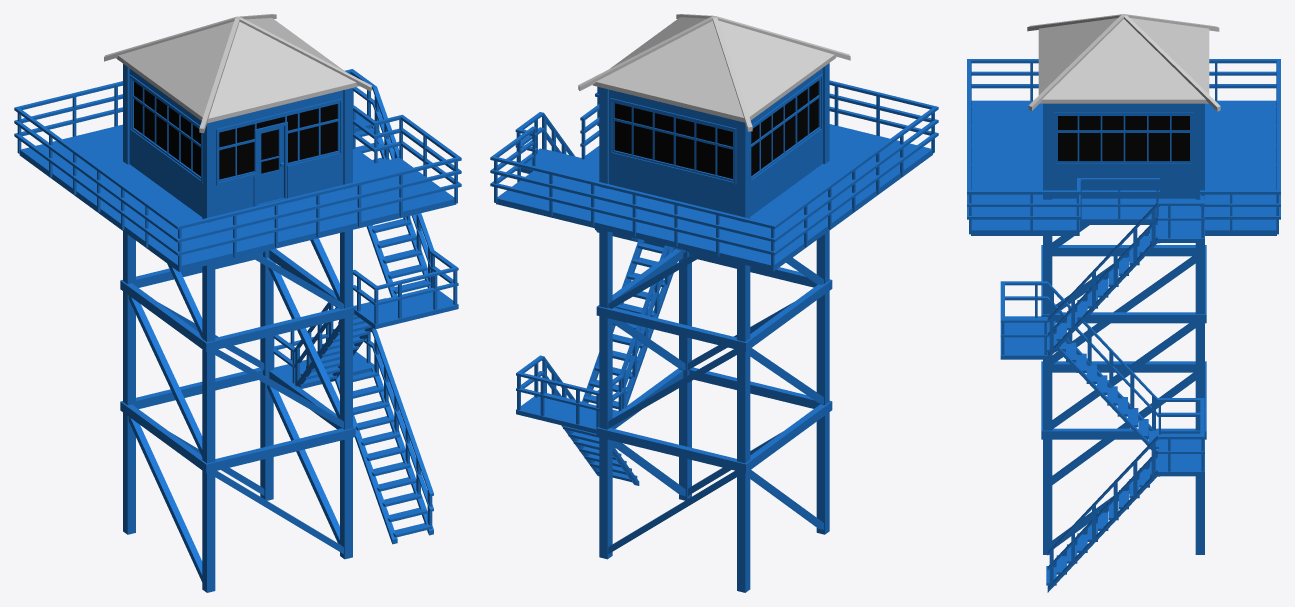
Rendered from SM_observation_post.fbx.
3 views of the same model, side by side, from view 1: azimuth 30°, elevation 25°; view 2: azimuth 150°, elevation 25°; view 3: azimuth 270°, elevation 25° (orthographic). The views are drawn at different scales.
Parts seen in each view (by area): view 1: Cube_7, Symmetry_2; view 2: Cube_7; view 3: Cube_7.
Boxes of the visible parts, bbox=[...] form: Cube_7: bbox=[14, 14, 461, 592]; Symmetry_2: bbox=[258, 126, 283, 203]; Cube_7: bbox=[490, 14, 938, 592]; Cube_7: bbox=[967, 14, 1280, 592].
Bounding box in the file's own units: 717 × 1207 × 679.
